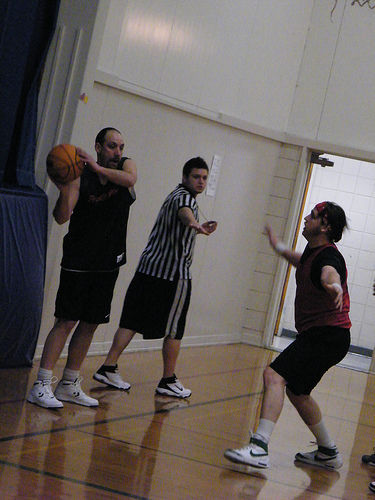basketball: (48, 145, 83, 182)
